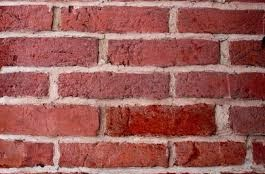brick: (105, 104, 216, 137), (60, 4, 170, 34), (106, 37, 221, 65), (1, 103, 104, 134), (58, 72, 171, 100), (58, 141, 171, 169), (1, 37, 103, 68), (175, 70, 264, 101), (177, 6, 264, 35), (173, 143, 247, 167), (1, 141, 56, 170), (1, 4, 55, 32), (226, 103, 264, 137), (1, 72, 50, 98), (227, 39, 265, 68), (253, 141, 265, 163)
